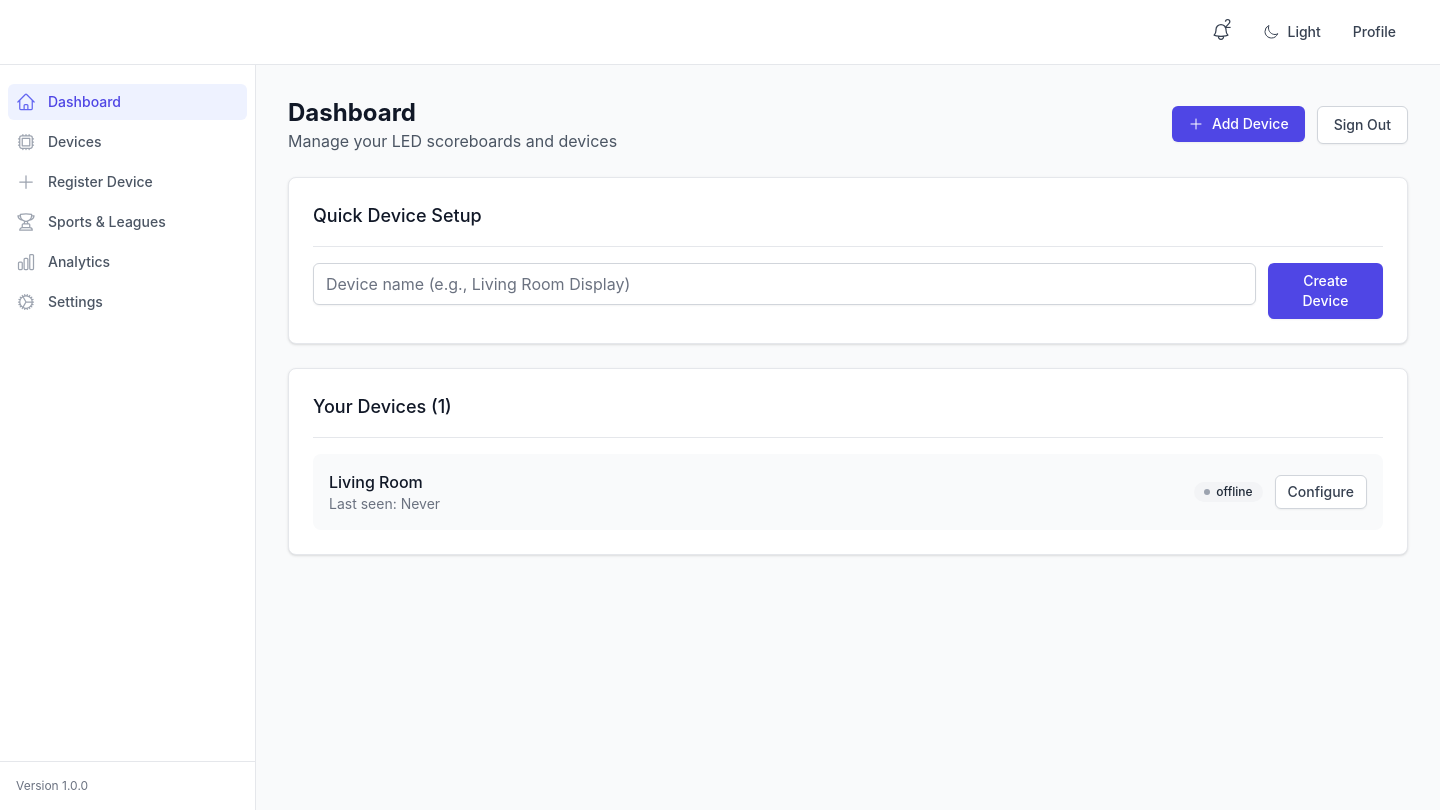
Test: Home page › displays devices when authenticated
Expected: the heading "Dashboard" is shown, [288, 98, 416, 127]
Expected: the text "Living Room" is shown, [329, 472, 423, 492]
Type "Bedroom Display" into the field with placeholder "Device name (e.g., Living Room Display)".
click(784, 284); type("Bedroom Display")  # box [313, 263, 1256, 305]
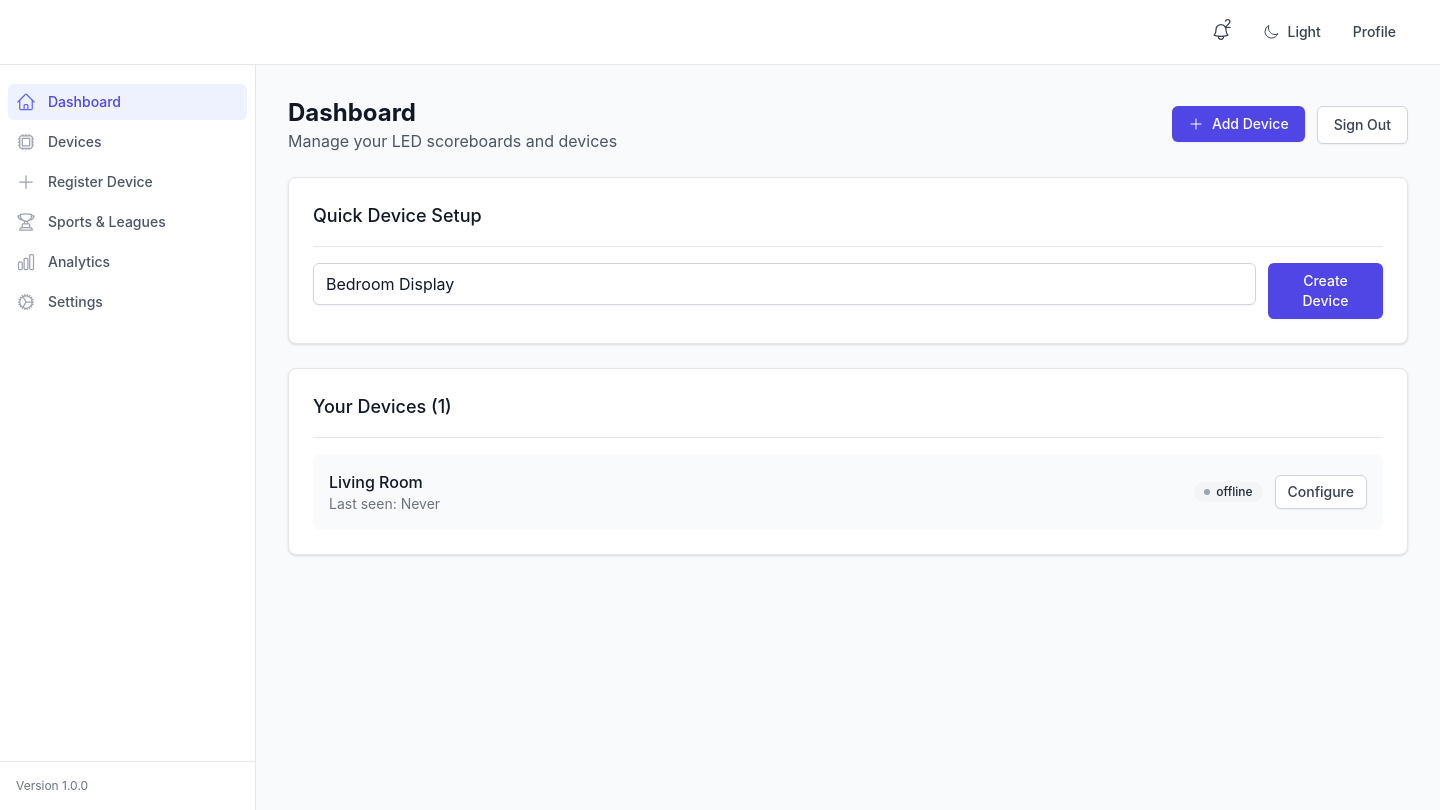
Click the button "Create Device".
click(1325, 291)  # box [1268, 263, 1383, 319]
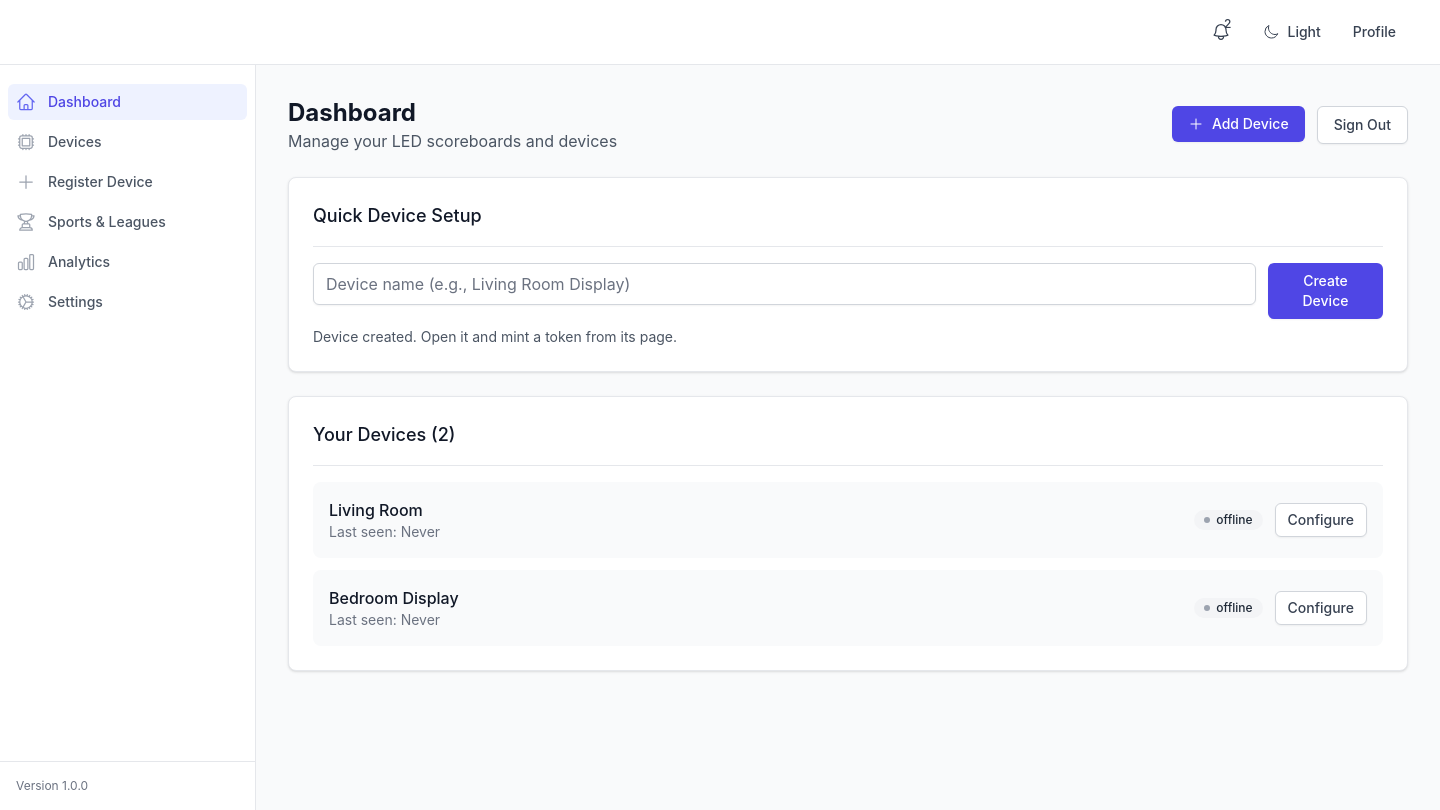
Now the text "Bedroom Display" is shown, box [329, 588, 459, 608]
